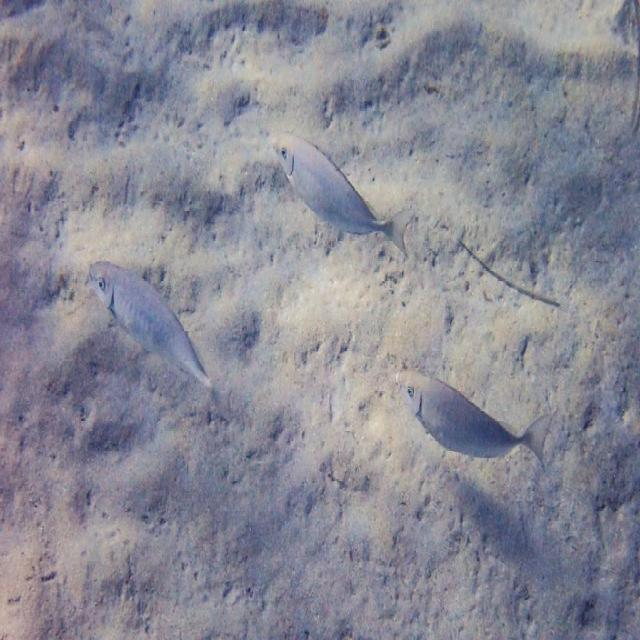Sokar Baligi: (84, 237, 246, 436), (263, 122, 415, 271), (390, 359, 558, 490)
